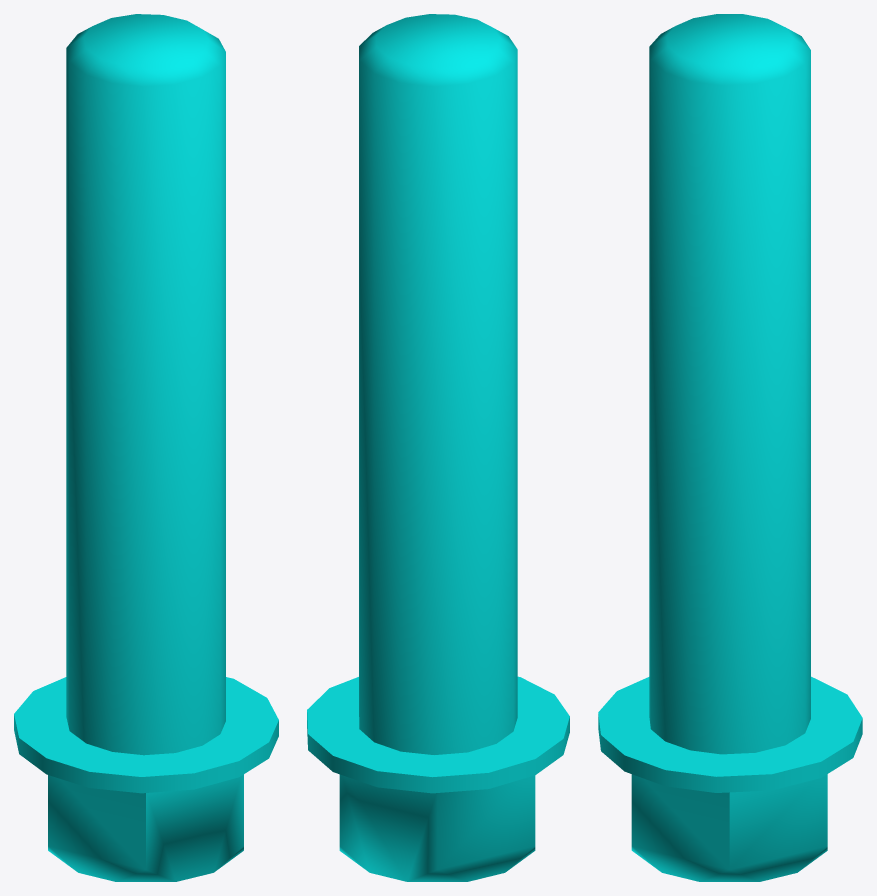
3 views of the same model, side by side, from view 1: azimuth 30°, elevation 25°; view 2: azimuth 150°, elevation 25°; view 3: azimuth 270°, elevation 25° (orthographic).
Parts seen in each view (by area): view 1: tr014_021; view 2: tr014_021; view 3: tr014_021.
Part boxes in pixels (bbox=[...]): tr014_021: bbox=[14, 14, 278, 881]; tr014_021: bbox=[307, 14, 569, 881]; tr014_021: bbox=[598, 14, 862, 881].
Size of the model in its own units: 2.05 by 6.9 by 2.06.
